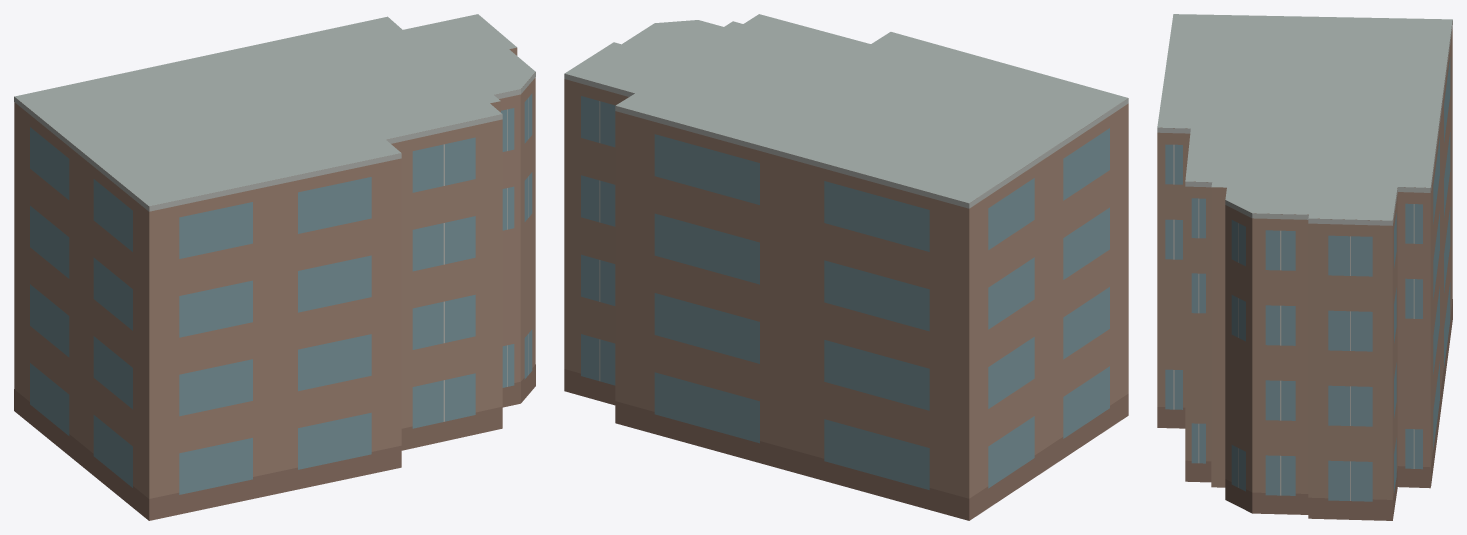
File: survey-upis-32966311.glb
3 renders of one model, left to right at view 1: azimuth 30°, elevation 25°; view 2: azimuth 150°, elevation 25°; view 3: azimuth 270°, elevation 25°, orthographic. The views are drawn at different scales.
Visible parts, largest first — view 1: survey-upis-32966311.tmp; view 2: survey-upis-32966311.tmp; view 3: survey-upis-32966311.tmp.
Part boxes in pixels (<box>): survey-upis-32966311.tmp: <box>14,14,535,520</box>; survey-upis-32966311.tmp: <box>564,14,1128,520</box>; survey-upis-32966311.tmp: <box>1157,14,1452,520</box>.
Bounding box in the file's own units: 21.28 × 14.4 × 12.86.
